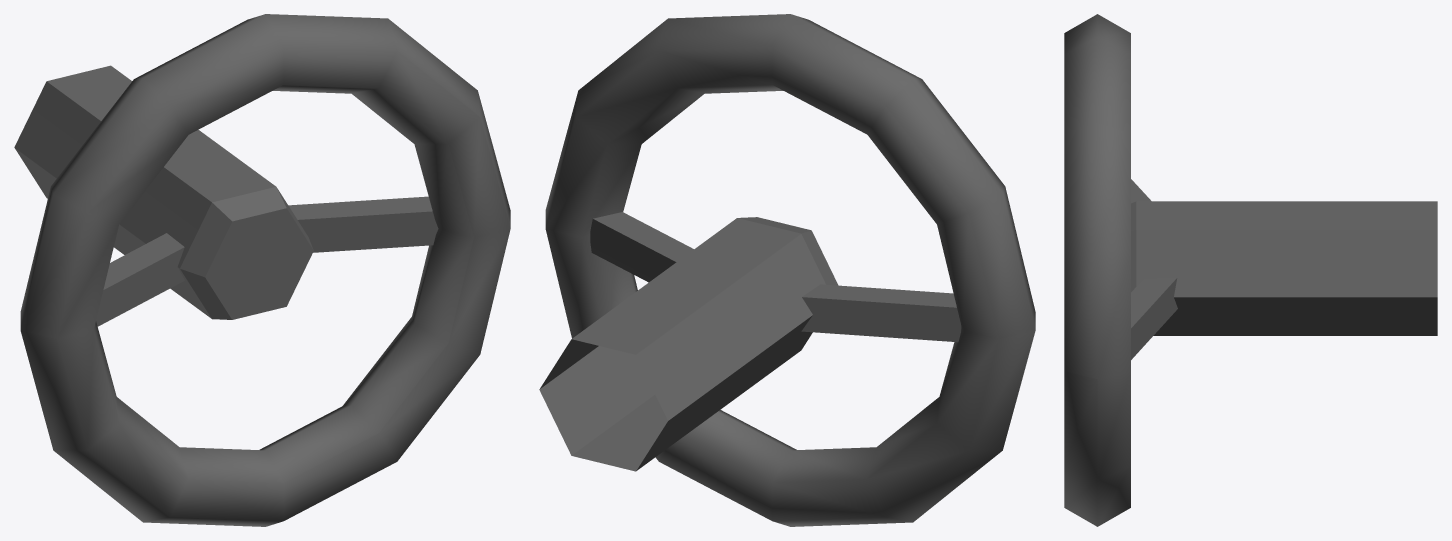
Rendered from fisher_1_equipment_3.FBX.
3 views of the same model, side by side, from view 1: azimuth 30°, elevation 25°; view 2: azimuth 150°, elevation 25°; view 3: azimuth 270°, elevation 25° (orthographic). The views are drawn at different scales.
Visible parts, largest first — view 1: fisher_1_equipment_3; view 2: fisher_1_equipment_3; view 3: fisher_1_equipment_3.
Part boxes in pixels (bbox=[...]): fisher_1_equipment_3: bbox=[14, 14, 510, 526]; fisher_1_equipment_3: bbox=[539, 14, 1035, 526]; fisher_1_equipment_3: bbox=[1064, 14, 1437, 526].
Bounding box in the file's own units: 11.91 × 11.91 × 8.64.
